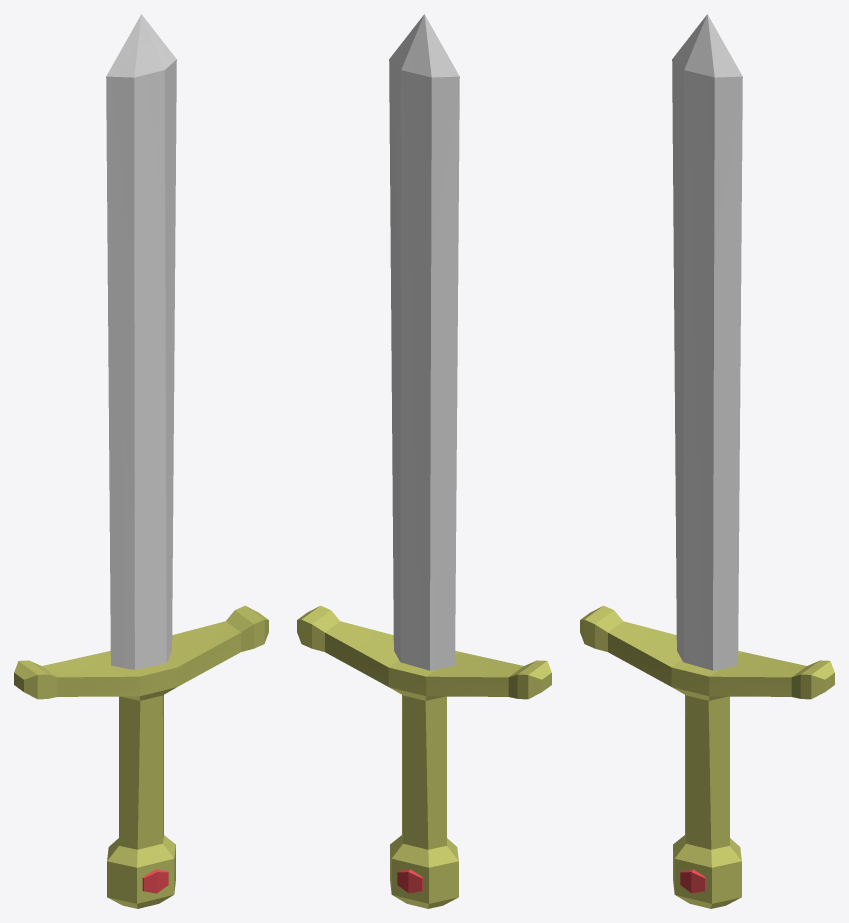
Rendered from Sword-Colliders.fbx.
The picture shows the model from 3 angles, left to right: view 1: azimuth 30°, elevation 25°; view 2: azimuth 150°, elevation 25°; view 3: azimuth 330°, elevation 25°; orthographic projection.
Visible parts, largest first — view 1: Blade-Back, Hilt-Middle, Guard-Left, Pommel, Guard-Right, Guard-Left-Bulb, Guard-Right-Bulb, Pommel-Gems; view 2: Blade-Front, Hilt-Middle, Guard-Left, Pommel, Guard-Right, Guard-Left-Bulb, Guard-Right-Bulb, Pommel-Gems; view 3: Blade-Back, Hilt-Middle, Guard-Right, Pommel, Guard-Left, Guard-Right-Bulb, Guard-Left-Bulb, Pommel-Gems.
Part boxes in pixels (bbox=[...]): Blade-Back: bbox=[106, 14, 176, 669]; Hilt-Middle: bbox=[119, 695, 163, 849]; Guard-Left: bbox=[42, 651, 158, 696]; Pommel: bbox=[107, 835, 175, 908]; Guard-Right: bbox=[151, 621, 240, 691]; Guard-Left-Bulb: bbox=[14, 660, 57, 699]; Guard-Right-Bulb: bbox=[226, 605, 268, 651]; Pommel-Gems: bbox=[142, 869, 168, 893]; Blade-Front: bbox=[389, 14, 459, 670]; Hilt-Middle: bbox=[402, 695, 446, 849]; Guard-Left: bbox=[407, 651, 523, 696]; Pommel: bbox=[390, 835, 458, 908]; Guard-Right: bbox=[325, 621, 414, 691]; Guard-Left-Bulb: bbox=[508, 660, 551, 699]; Guard-Right-Bulb: bbox=[297, 605, 339, 651]; Pommel-Gems: bbox=[397, 869, 423, 893]; Blade-Back: bbox=[672, 14, 742, 670]; Hilt-Middle: bbox=[685, 695, 729, 849]; Guard-Right: bbox=[690, 651, 806, 696]; Pommel: bbox=[673, 835, 741, 908]; Guard-Left: bbox=[608, 621, 697, 691]; Guard-Right-Bulb: bbox=[791, 660, 834, 699]; Guard-Left-Bulb: bbox=[580, 605, 622, 651]; Pommel-Gems: bbox=[680, 869, 706, 893].
Size of the model in its own units: 48.62 by 168 by 11.65.
